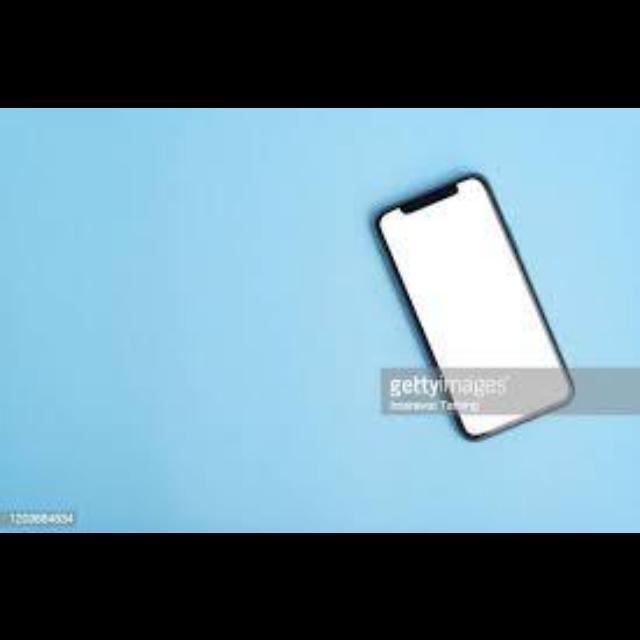Phone: (371, 172, 573, 442)
